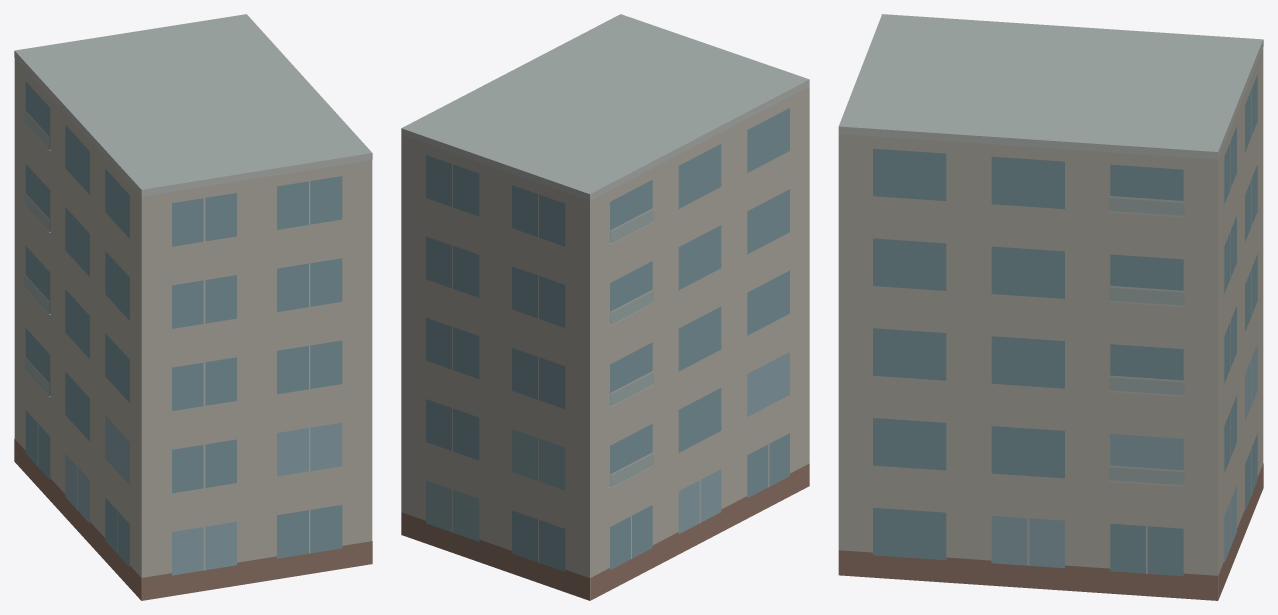
Rendered from survey-upis-32938061.glb.
3 renders of one model, left to right at view 1: azimuth 30°, elevation 25°; view 2: azimuth 150°, elevation 25°; view 3: azimuth 270°, elevation 25°, orthographic. The views are drawn at different scales.
Parts seen in each view (by area): view 1: survey-upis-32938061.tmp; view 2: survey-upis-32938061.tmp; view 3: survey-upis-32938061.tmp.
Part boxes in pixels (x1,y1,x2,y2): survey-upis-32938061.tmp: [14, 14, 372, 600]; survey-upis-32938061.tmp: [401, 14, 809, 600]; survey-upis-32938061.tmp: [838, 14, 1263, 600].
Size of the model in its own units: 9.57 by 14.5 by 12.45.
